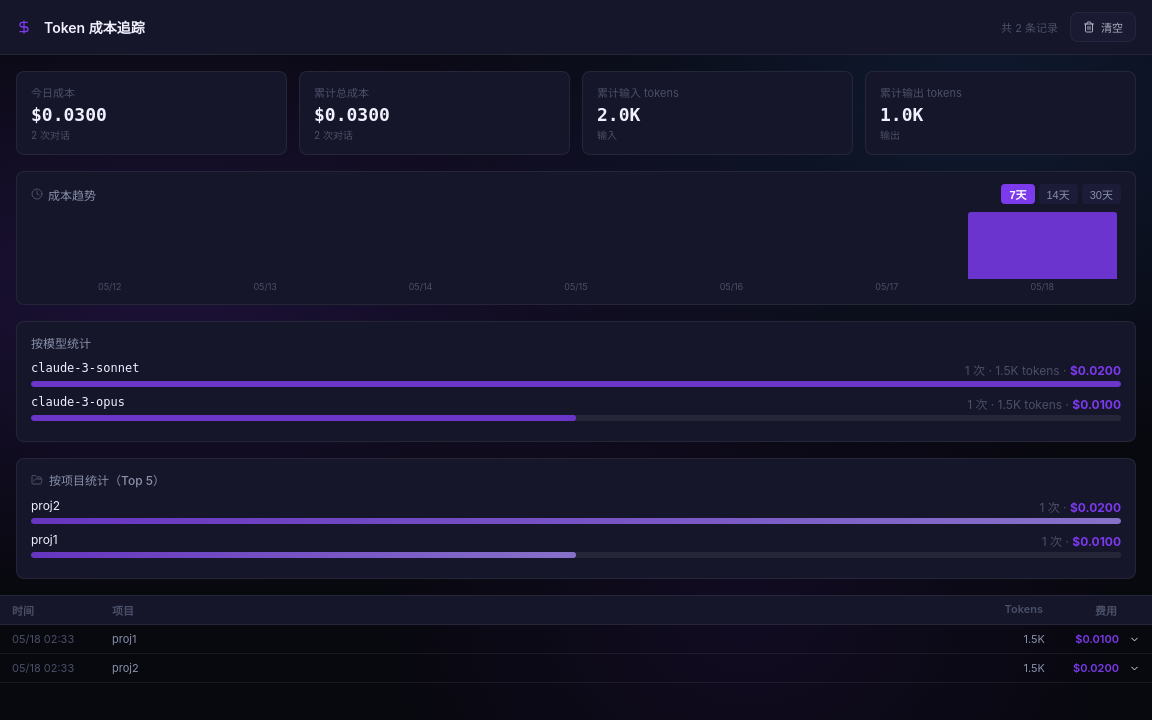
Test: CostPanel - 多条记录 › 点击清空显示确认按钮
Click the button "清空" at (1103, 27), box [1070,12,1136,42]
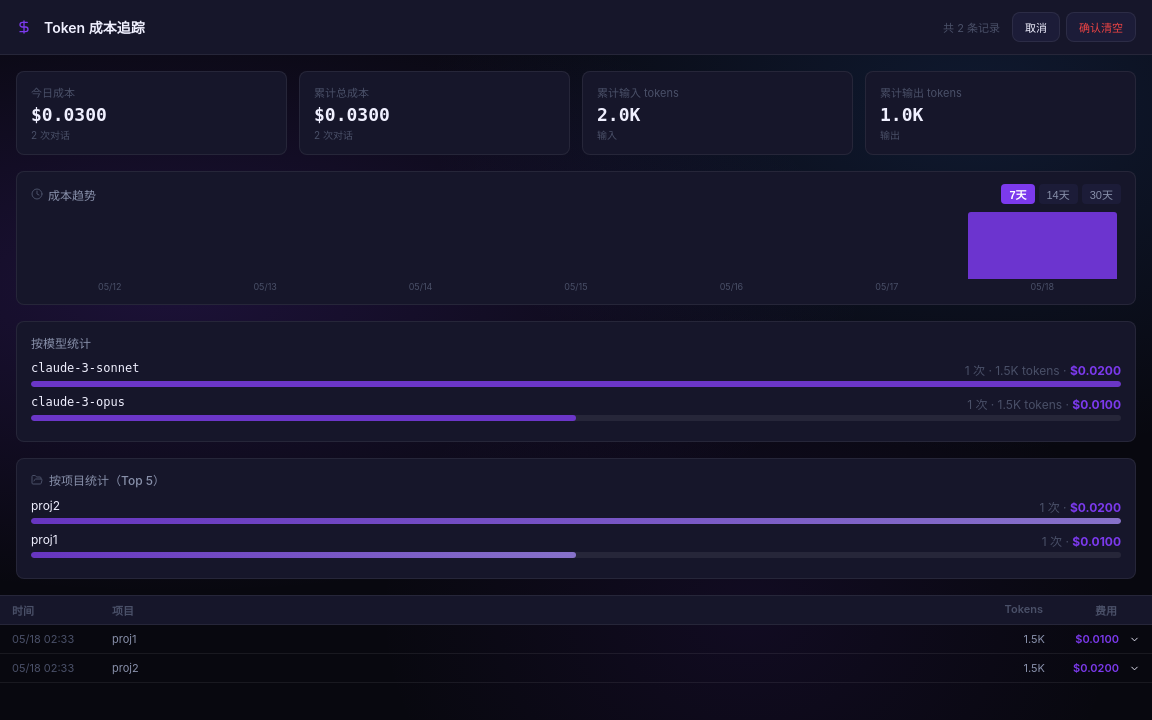
expect the button "确认清空" is shown: met, box [1066,12,1136,42]
